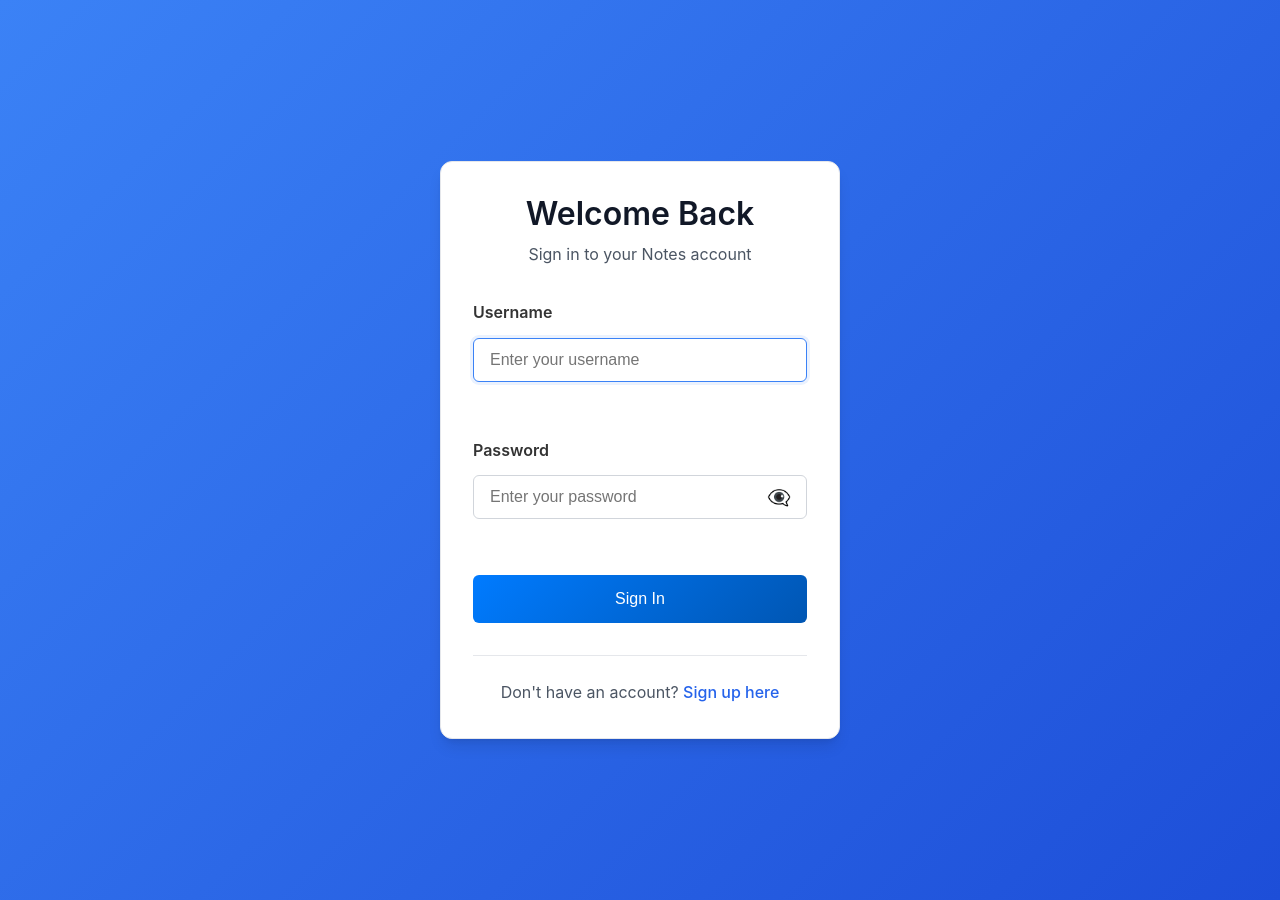
Scenario: LoginPage › clears form errors when user starts typing
Step 1. Click the button "Sign In" → (640, 599), box [473,575,807,623]
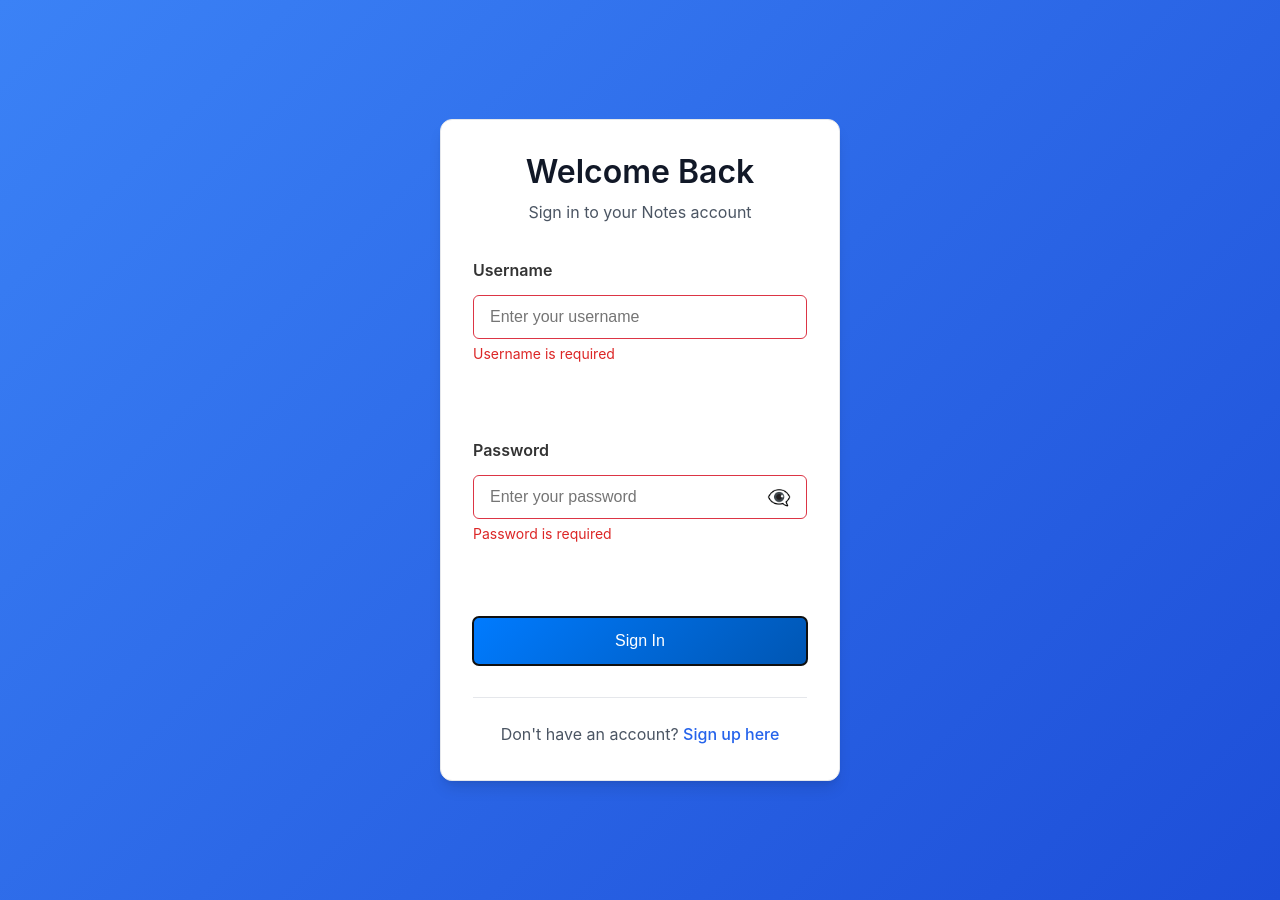
Expected: the text "Username is required" is shown, [473,345,615,362]
Step 2. Type "t" into the field labelled "Username" → (640, 317), box [473,295,807,339]
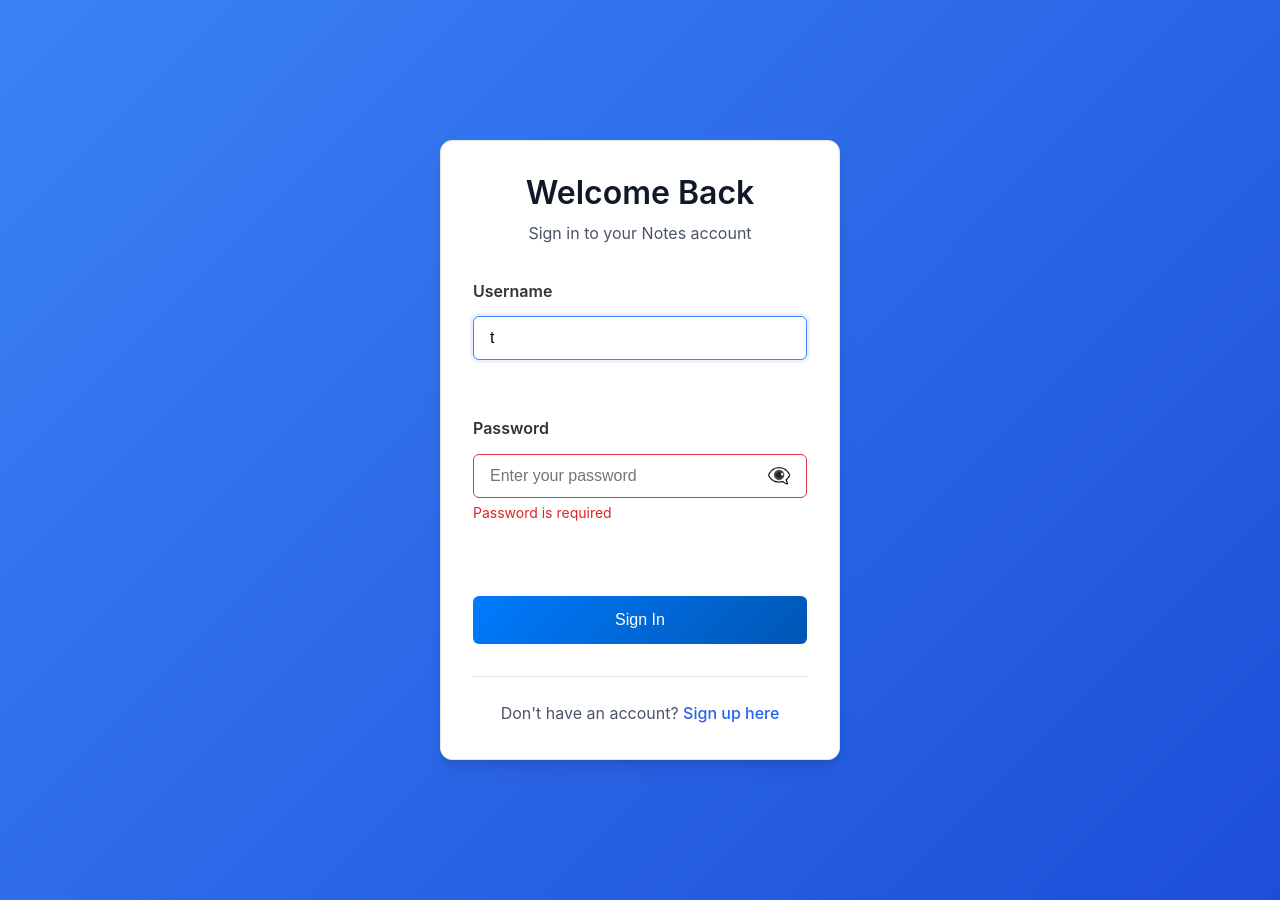
Expected: the text "Username is required" is gone
